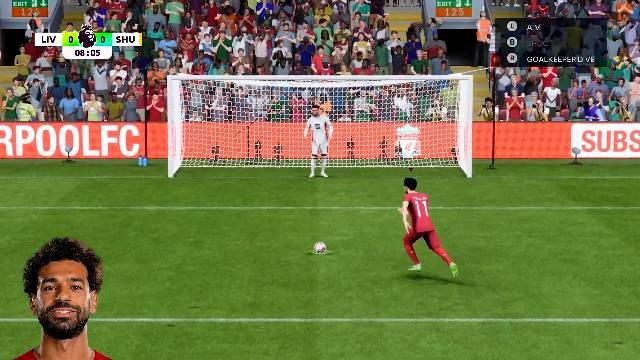bottom-left: (173, 132, 274, 180)
bottom-right: (369, 132, 467, 178)
center-down: (275, 132, 367, 178)
center-up: (276, 81, 368, 131)
circle: (309, 250, 331, 254)
football: (314, 242, 326, 252)
goalkeeper: (302, 105, 334, 179)
player: (396, 178, 464, 278)
top-left: (173, 80, 275, 130)
top-right: (368, 81, 468, 131)
